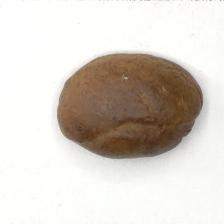NG: (77, 115, 175, 144)
